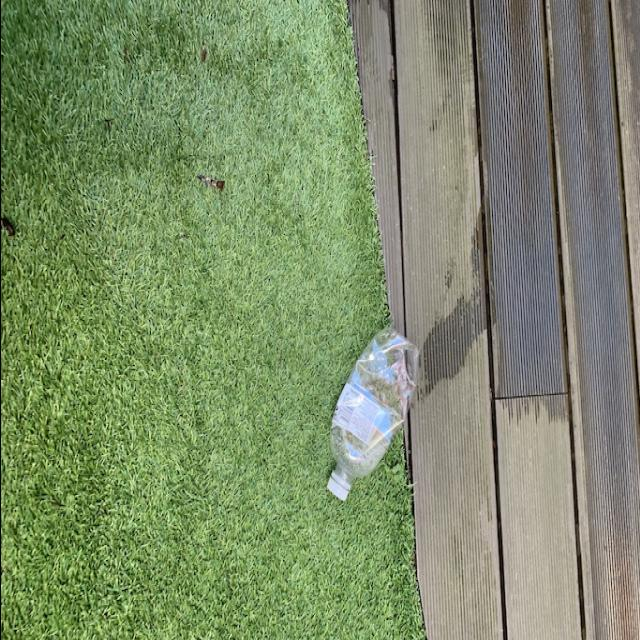litter: (321, 325, 418, 505)
